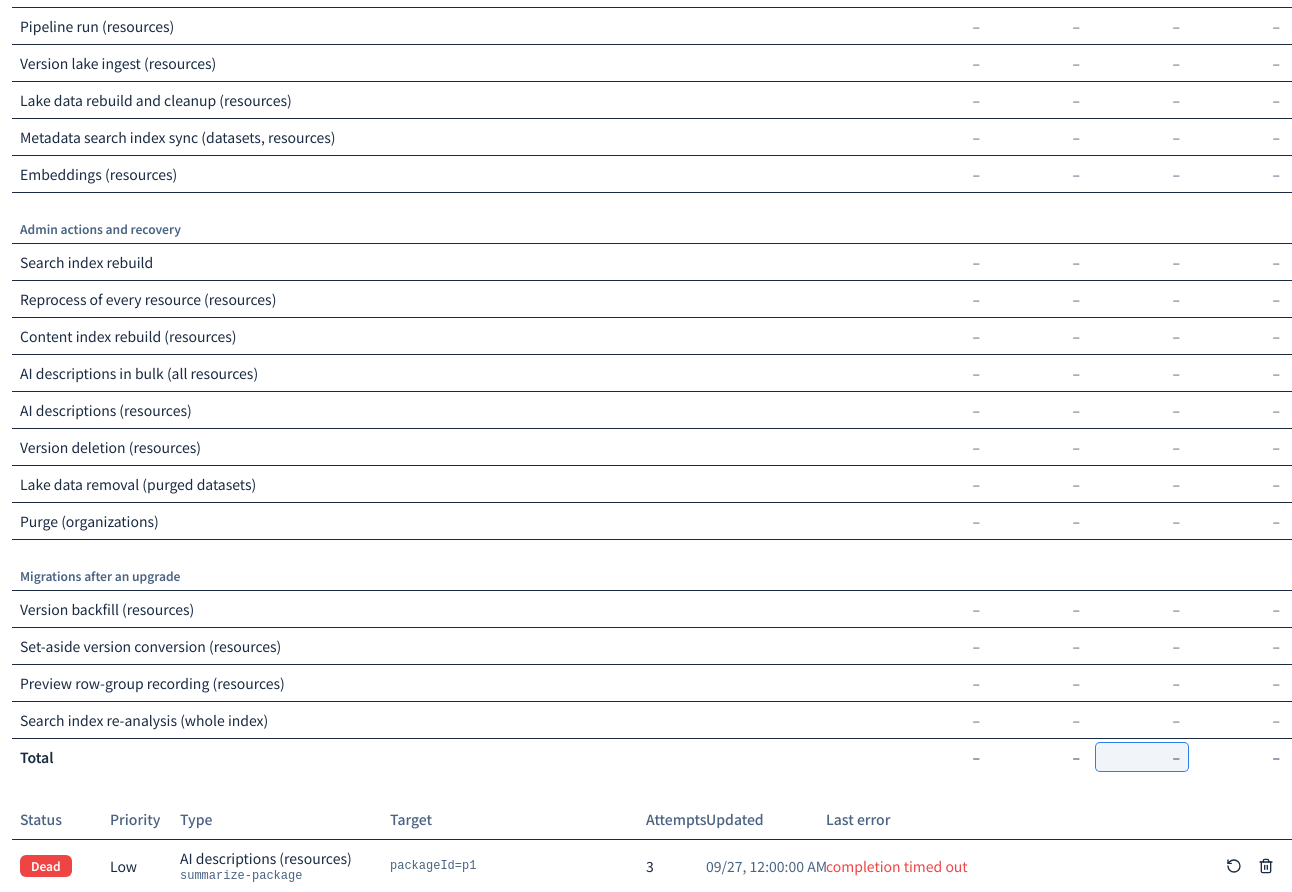
Scenario: AdminQueuePage › says so when an action fails
(page scrolled)
Click the button named "Retry": coordinates (1234, 866) [1220,852,1248,880]
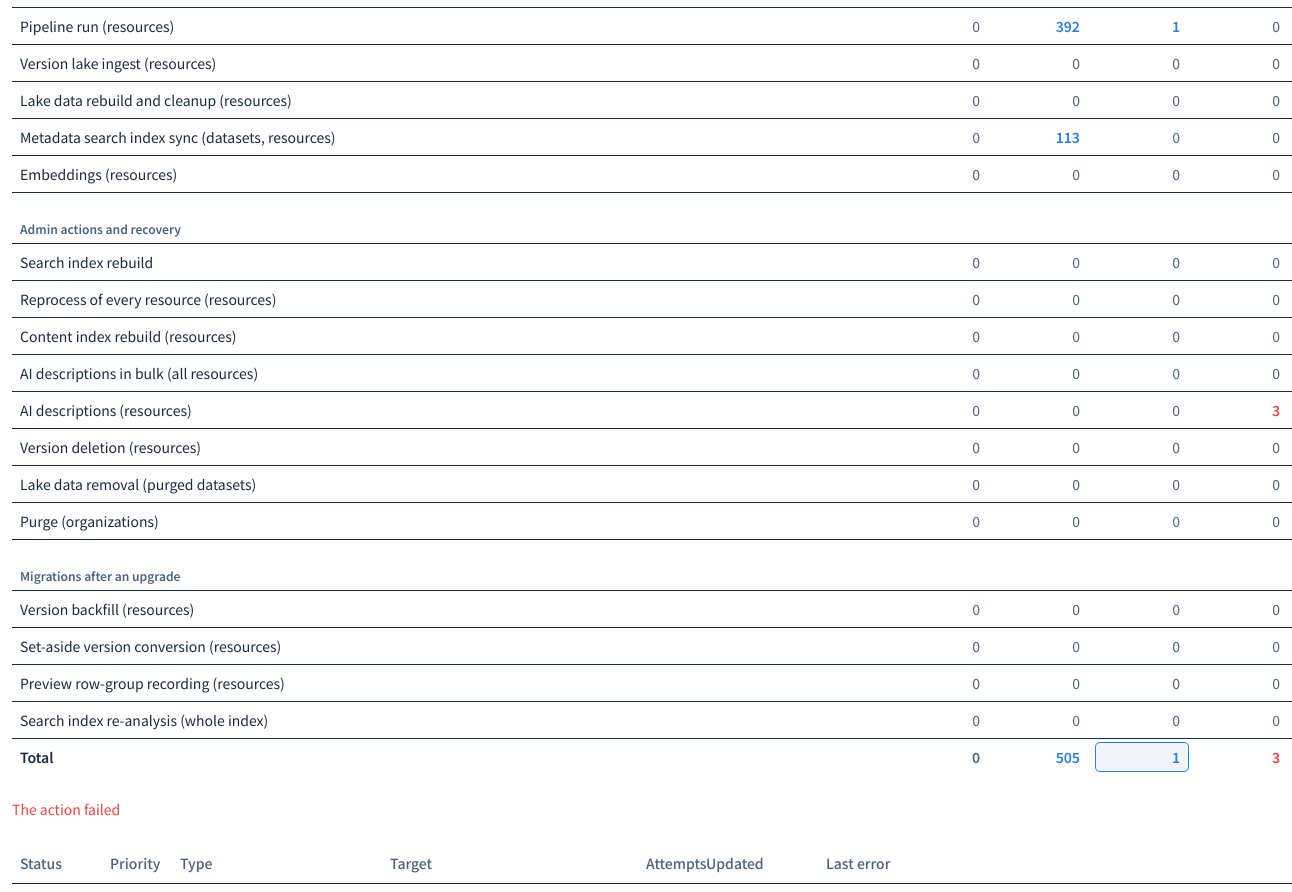
Check: the message reads "The action failed", box [12,799,120,819]
